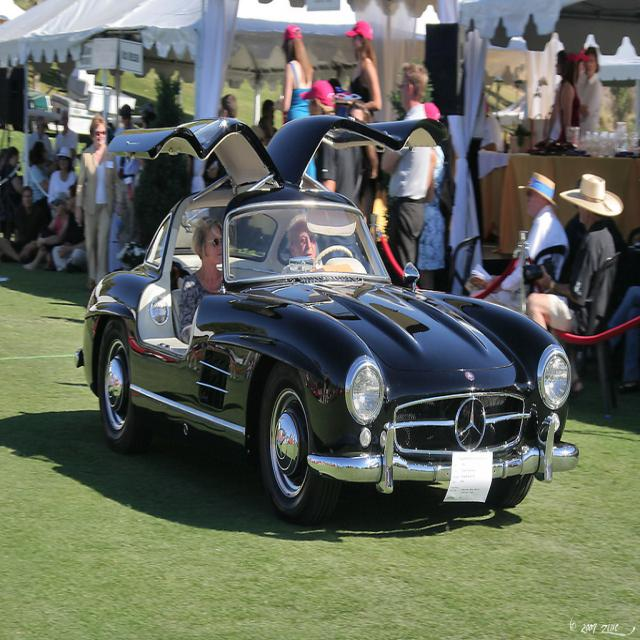car: (71, 107, 577, 520)
